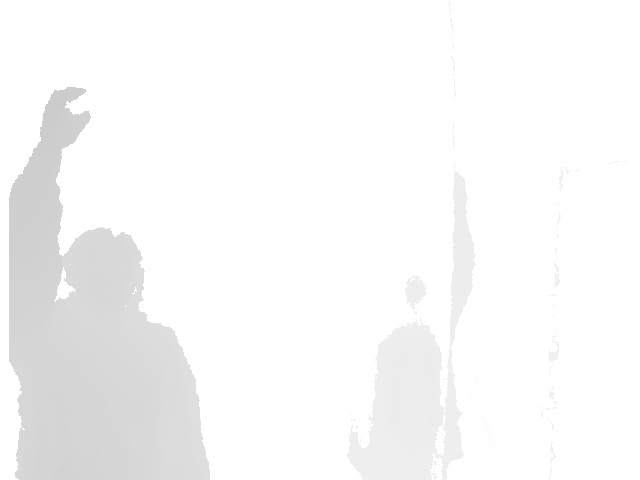hand: (40, 85, 91, 150)
head: (63, 224, 146, 312), (400, 271, 431, 318)
person: (9, 85, 215, 480), (347, 171, 477, 480)
